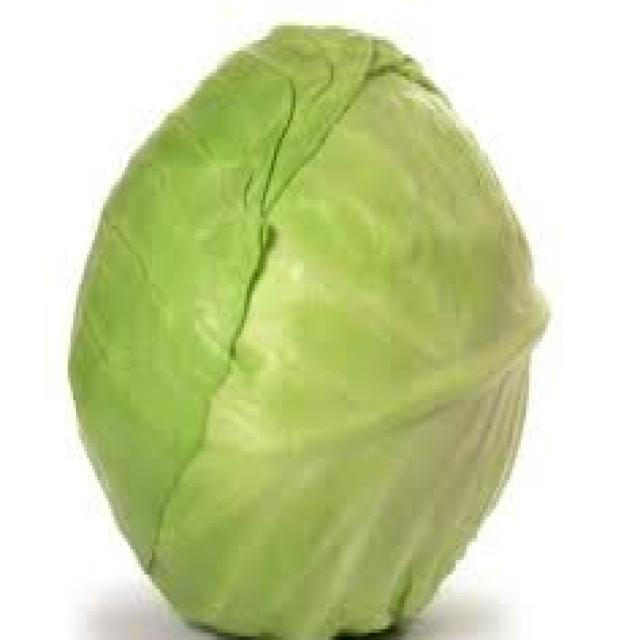cabbage: (68, 32, 554, 640)
